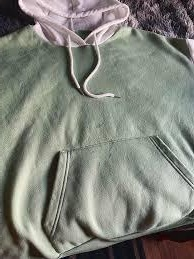oil: (97, 132, 122, 166), (92, 116, 105, 129)
